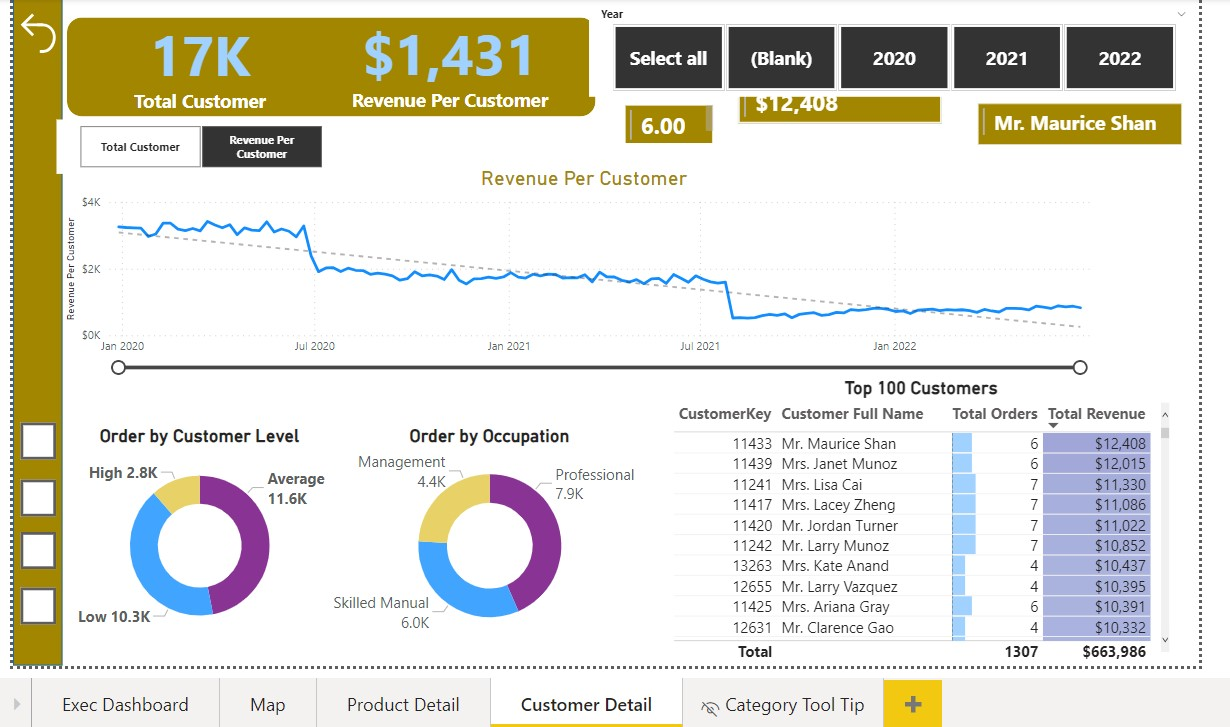

The dashboard page shown, as its layout file describes it:
{"tool":"powerbi","page":{"name":"Customer Detail","canvas":[1280,720],"ordinal":3},"visuals":[{"type":"actionButton","box":[8.3,458.3,38.3,40],"z":0,"group":"g1"},{"type":"shape","box":[58.3,21.7,570,106.7],"z":0},{"type":"card","fields":{"Values":["Measure Table.Total Customer"]},"box":[98.3,15,205,113.3],"z":1000},{"type":"actionButton","box":[8.3,520,38.3,40],"z":1000,"group":"g1"},{"type":"card","fields":{"Values":["Measure Table.Average Revenue Per Customer"]},"box":[303.3,11.7,336.7,116.7],"z":2000},{"type":"actionButton","box":[8.3,576.6,38.3,40],"z":2000,"group":"g1"},{"type":"actionButton","box":[8.3,636.6,38.3,40],"z":3000,"group":"g1"},{"type":"lineChart","fields":{"Category":["Calendar Lookup.Date Hierarchy.Start of Year","Calendar Lookup.Date Hierarchy.Start of Month","Calendar Lookup.Date Hierarchy.Start of Week","Calendar Lookup.Date Hierarchy.Date"],"Y":["Measure Table.Average Revenue Per Customer"]},"box":[51.7,181.7,1128.3,228.3],"z":3000},{"type":"donutChart","title":"Order by Customer Level","fields":{"Category":["Customer Lookup.Income Level"],"Y":["Measure Table.Total Orders"]},"box":[46.7,461.7,308.3,236.7],"z":4000},{"type":"donutChart","title":"Order by Occupation","fields":{"Y":["Measure Table.Total Orders"],"Category":["Customer Lookup.Occupation"]},"box":[340,461.7,348.3,236.7],"z":5000},{"type":"tableEx","title":"Top 100 Customers","fields":{"Values":["Customer Lookup.CustomerKey","Customer Lookup.Customer Full Name","Measure Table.Total Orders","Measure Table.Total Revenue"]},"box":[706.7,410,545,310],"z":6000},{"type":"multiRowCard","fields":{"Values":["Measure Table.Full Name (Customer Details)"]},"box":[1035,108.3,230,73.3],"z":7000},{"type":"multiRowCard","fields":{"Values":["Measure Table.Total Order (Customer Detail)"]},"box":[655,110,105,50],"z":8000},{"type":"multiRowCard","fields":{"Values":["Measure Table.Total Revenue"]},"box":[776.7,83.3,230,61.7],"z":9000},{"type":"slicer","fields":{"Values":["Calendar Lookup.Year"]},"box":[621.7,3.3,656.7,103.3],"z":10000},{"type":"shape","box":[0,0,53.3,720],"z":11000},{"type":"actionButton","box":[0,10,55,56.7],"z":12000},{"type":"group","id":"g1","title":"Navigation","box":[8.3,458.3,38.3,218.3],"z":13000},{"type":"slicer","fields":{"Values":["Customer Metrics Selection.Customer Metrics Selection"]},"box":[46.7,131.7,310,58.3],"z":13001}]}

Visuals, with their boxes on the page's 1280x720 design canvas (x1, y1, x2, y2). These are canvas units, not pixel positions in the 1230x727 screenshot, which may show the page scaled, cropped or inside an application window:
actionButton: <bbox>8, 458, 47, 498</bbox>
shape: <bbox>58, 22, 628, 128</bbox>
card - Measure Table.Total Customer: <bbox>98, 15, 303, 128</bbox>
actionButton: <bbox>8, 520, 47, 560</bbox>
card - Measure Table.Average Revenue Per Customer: <bbox>303, 12, 640, 128</bbox>
actionButton: <bbox>8, 577, 47, 617</bbox>
actionButton: <bbox>8, 637, 47, 677</bbox>
lineChart - Calendar Lookup.Date Hierarchy.Start of Year x Calendar Lookup.Date Hierarchy.Start of Month: <bbox>52, 182, 1180, 410</bbox>
"Order by Customer Level" donutChart: <bbox>47, 462, 355, 698</bbox>
"Order by Occupation" donutChart: <bbox>340, 462, 688, 698</bbox>
"Top 100 Customers" tableEx: <bbox>707, 410, 1252, 720</bbox>
multiRowCard - Measure Table.Full Name (Customer Details): <bbox>1035, 108, 1265, 182</bbox>
multiRowCard - Measure Table.Total Order (Customer Detail): <bbox>655, 110, 760, 160</bbox>
multiRowCard - Measure Table.Total Revenue: <bbox>777, 83, 1007, 145</bbox>
slicer - Calendar Lookup.Year: <bbox>622, 3, 1278, 107</bbox>
shape: <bbox>0, 0, 53, 720</bbox>
actionButton: <bbox>0, 10, 55, 67</bbox>
"Navigation" group: <bbox>8, 458, 47, 677</bbox>
slicer - Customer Metrics Selection.Customer Metrics Selection: <bbox>47, 132, 357, 190</bbox>
